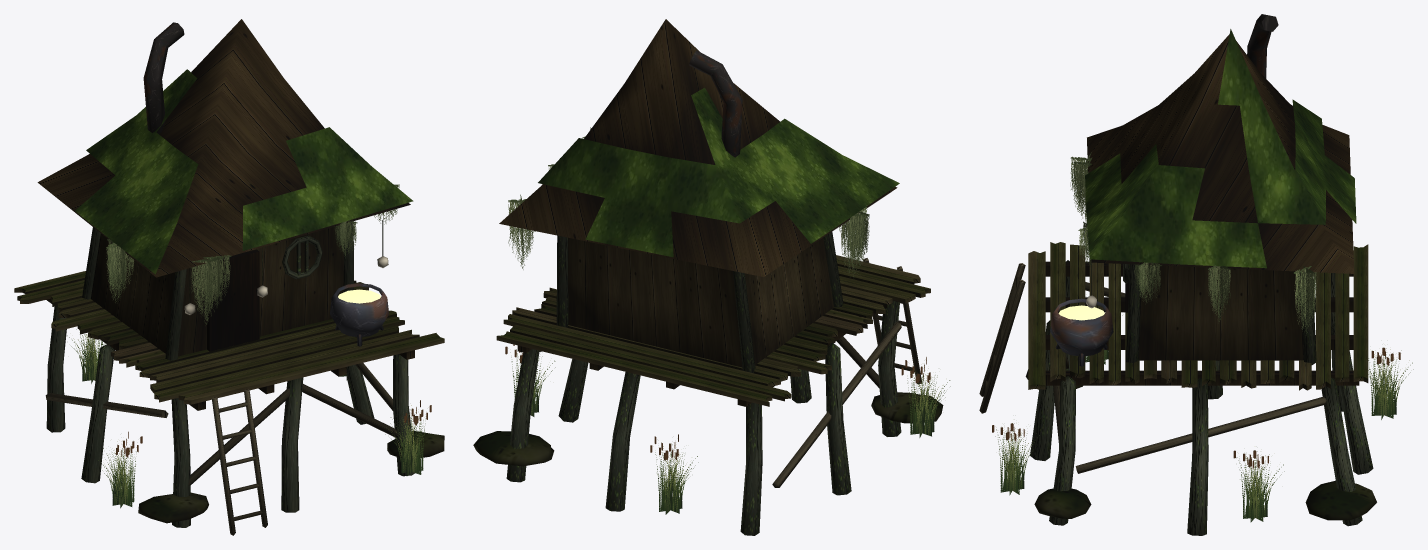
File: mirewell_hag_hut.glb
3 renders of one model, left to right at view 1: azimuth 30°, elevation 25°; view 2: azimuth 150°, elevation 25°; view 3: azimuth 270°, elevation 25°, orthographic. The views are drawn at different scales.
Parts seen in each view (by area): view 1: mirewell_hag_hut; view 2: mirewell_hag_hut; view 3: mirewell_hag_hut.
Part boxes in pixels (box(x1,y1,x2,y2)): mirewell_hag_hut: box(14, 19, 444, 535); mirewell_hag_hut: box(473, 19, 950, 535); mirewell_hag_hut: box(979, 14, 1413, 535).
Size of the model in its own units: 4.33 by 5.02 by 4.38.
9 materials, 8 textured.
